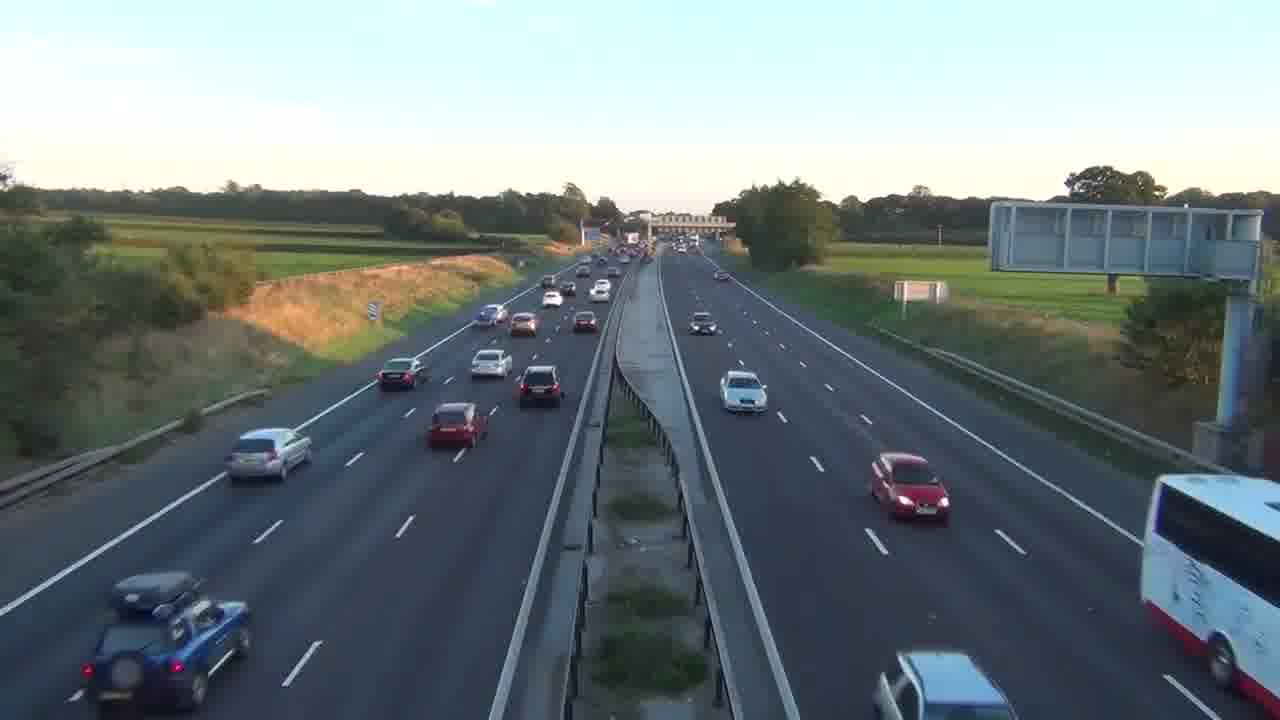bus: (1140, 471, 1279, 714)
car: (872, 648, 1020, 719), (869, 451, 952, 525), (227, 426, 313, 482), (426, 400, 489, 449), (719, 368, 768, 415), (516, 364, 564, 408), (373, 355, 430, 391), (470, 348, 513, 380), (573, 309, 597, 334)
